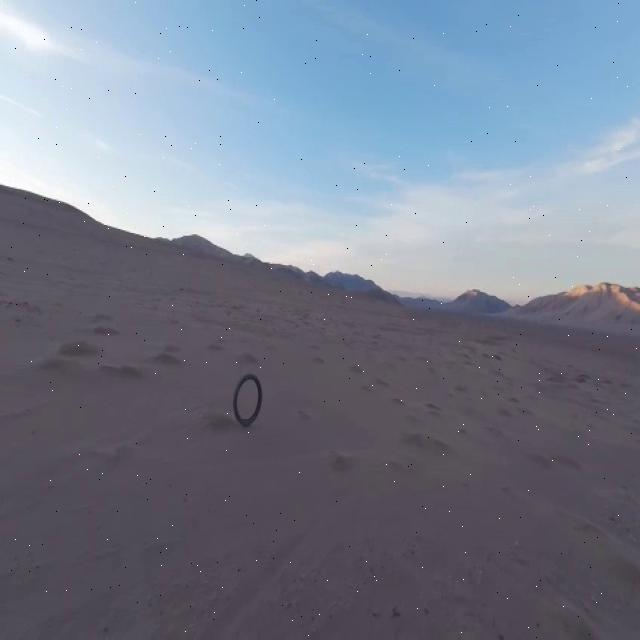Tire: (233, 374, 262, 426)
